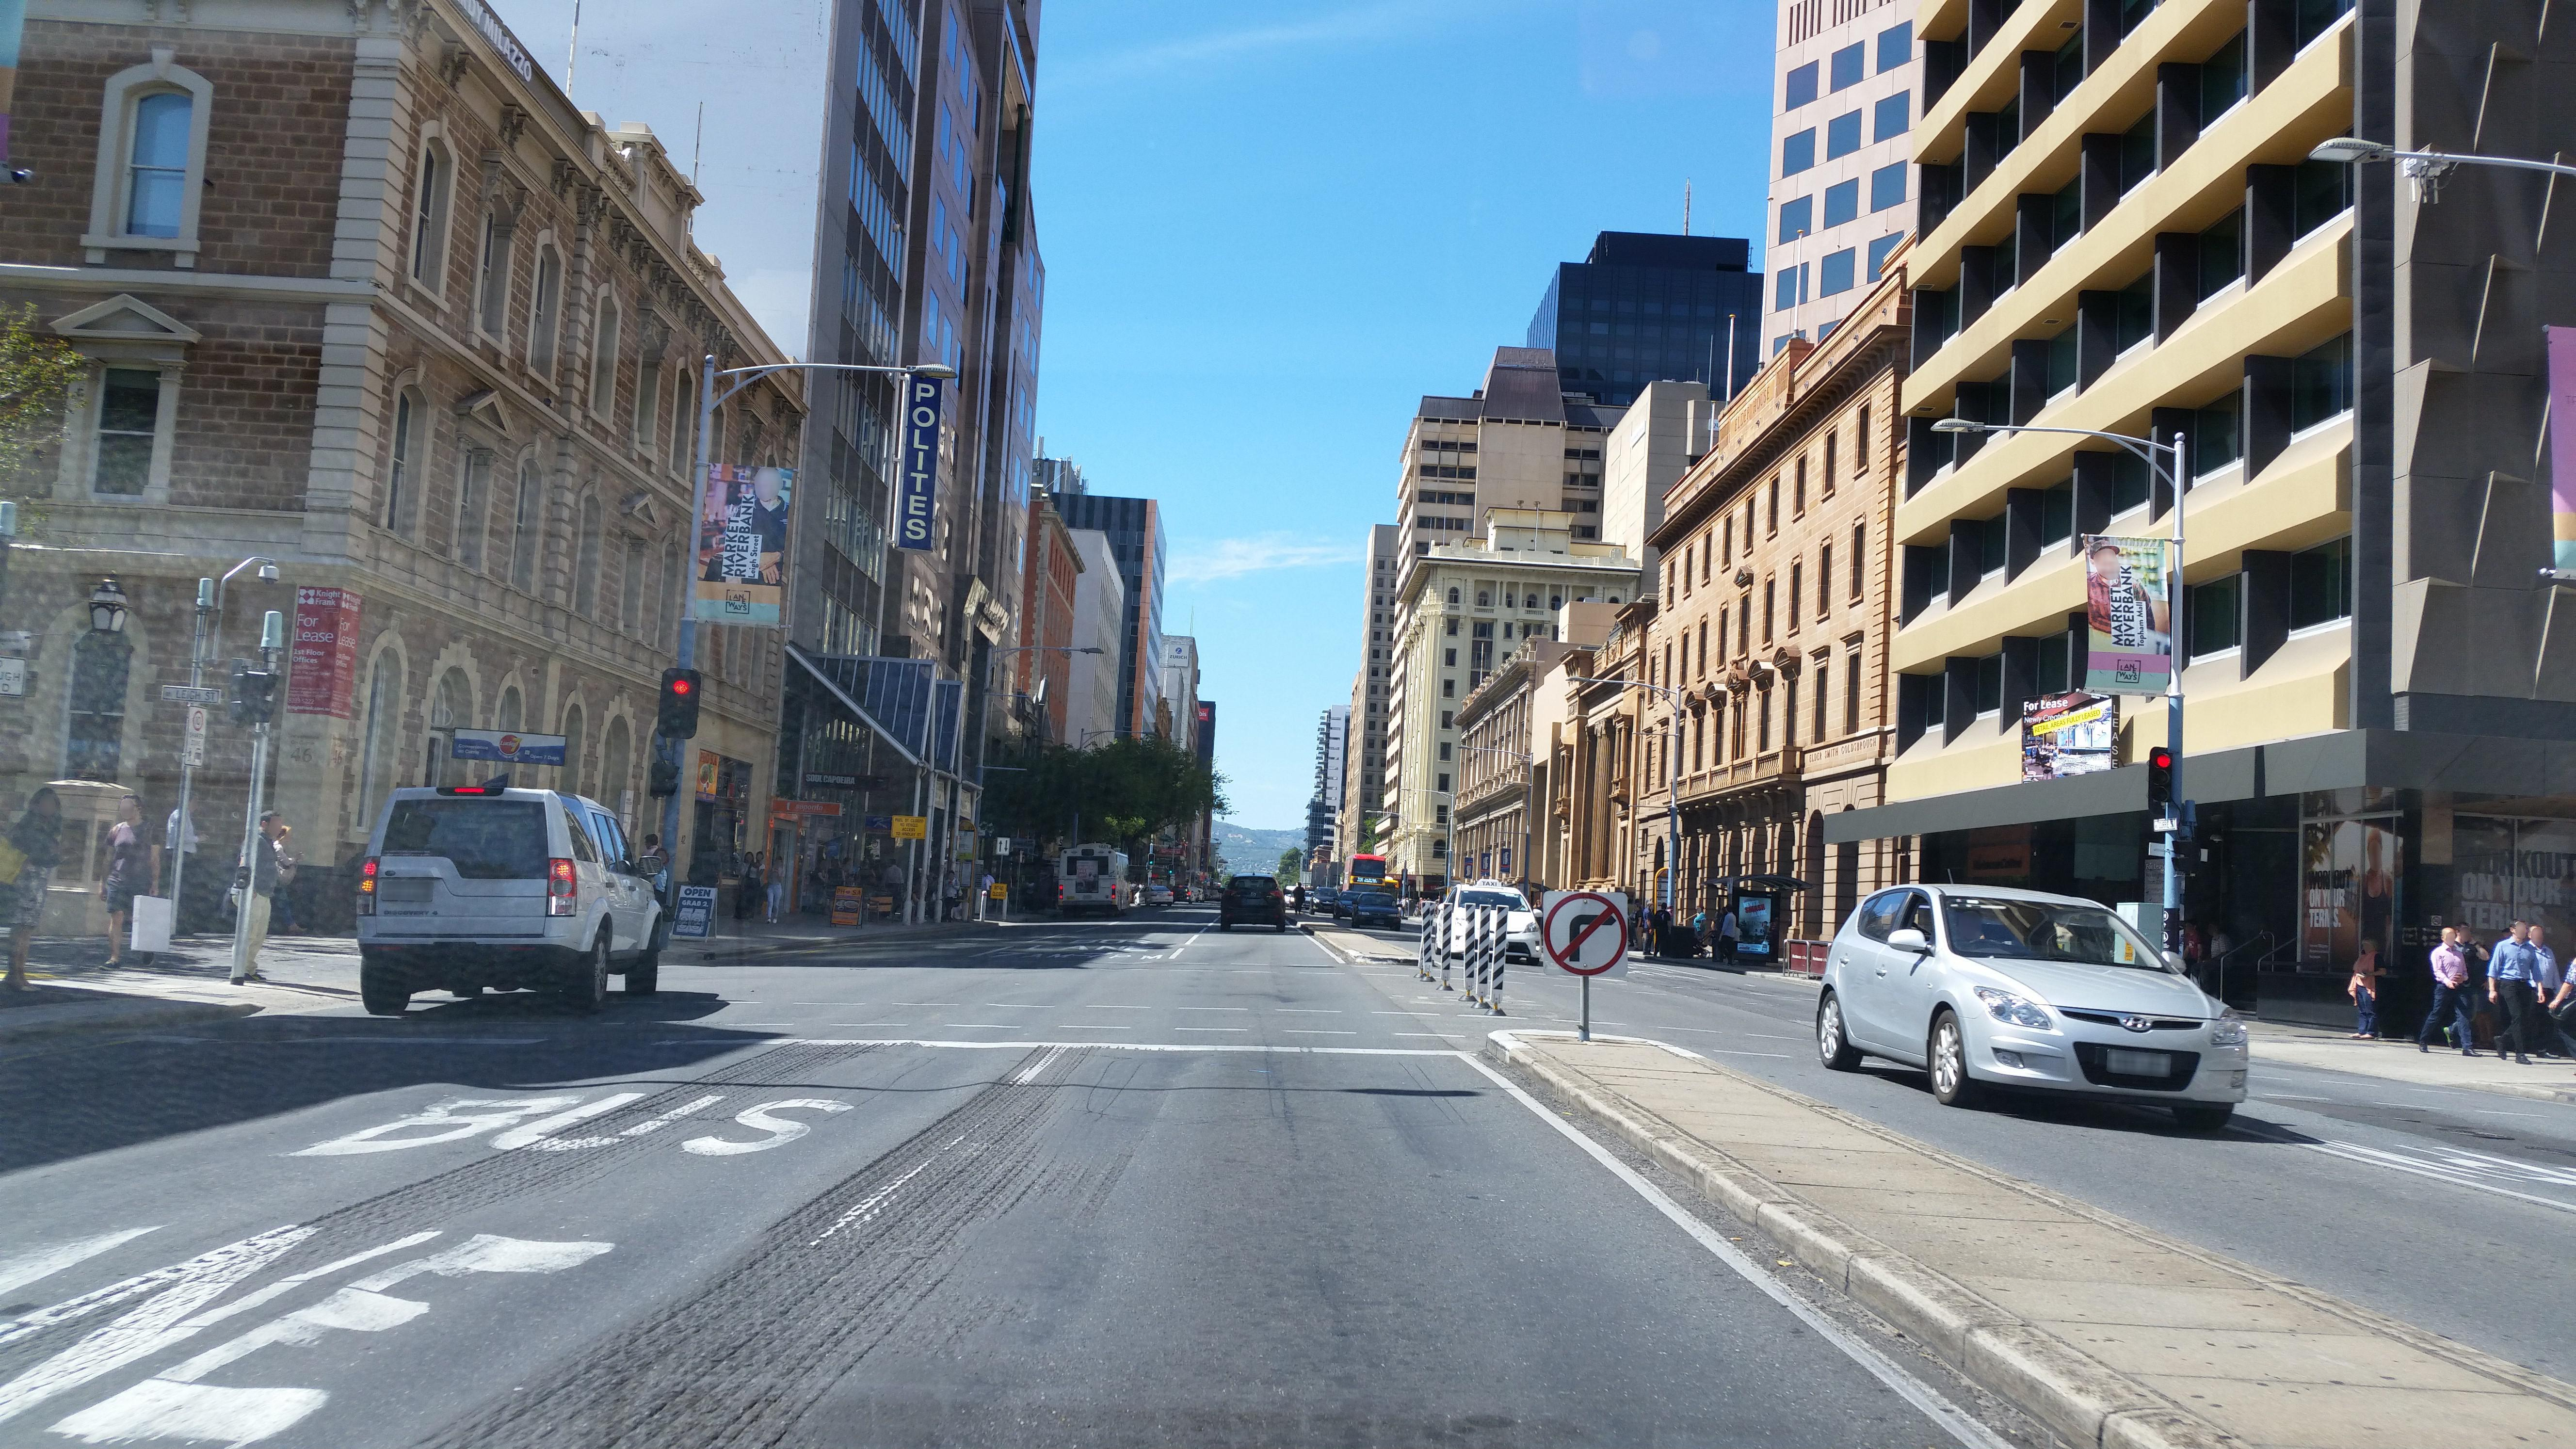vinyl banner: (2056, 518, 2190, 717), (688, 455, 807, 651)
